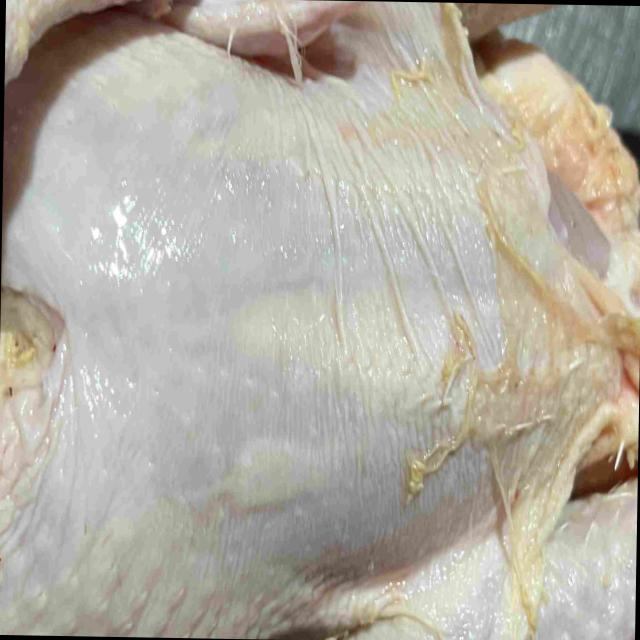breast: (0, 25, 640, 639)
leg: (328, 485, 637, 640)
